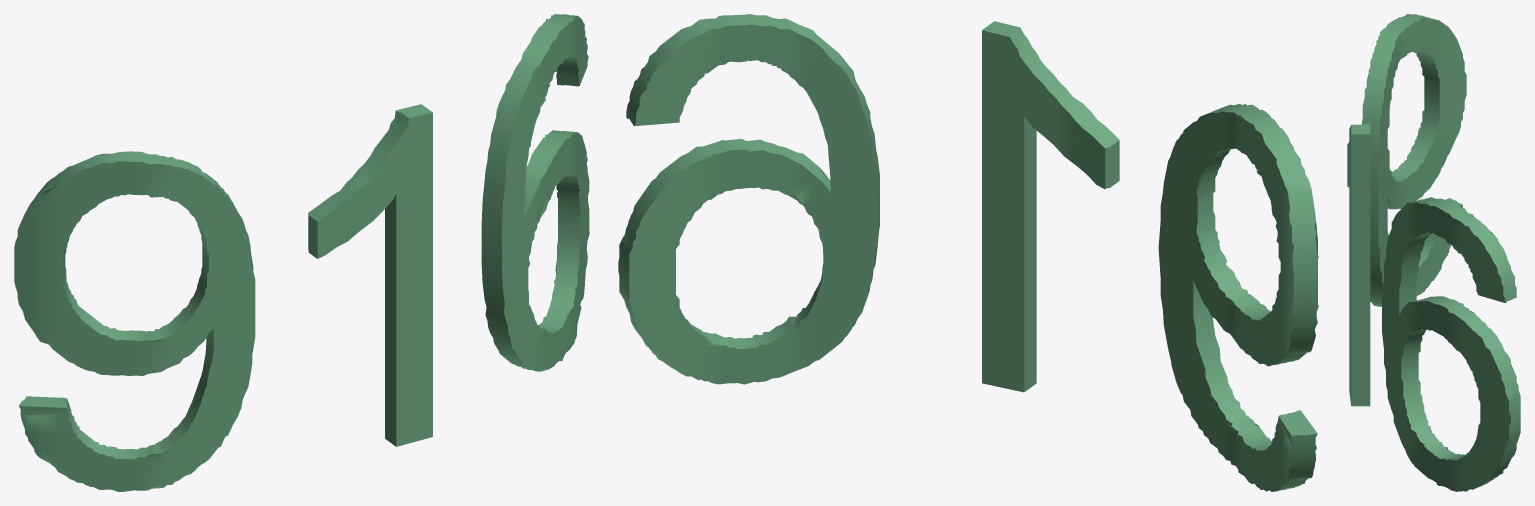
File: port_16.obj
3 views of the same model, side by side, from view 1: azimuth 30°, elevation 25°; view 2: azimuth 150°, elevation 25°; view 3: azimuth 270°, elevation 25° (orthographic). The views are drawn at different scales.
Parts seen in each view (by area): view 1: Text01; view 2: Text01; view 3: Text01.
Boxes of the visible parts, left/top/right/bottom form: Text01: left=14, top=14, right=589, bottom=491; Text01: left=618, top=14, right=1318, bottom=491; Text01: left=1347, top=14, right=1520, bottom=491.
Size of the model in its own units: 3.06 by 1.59 by 0.9.
